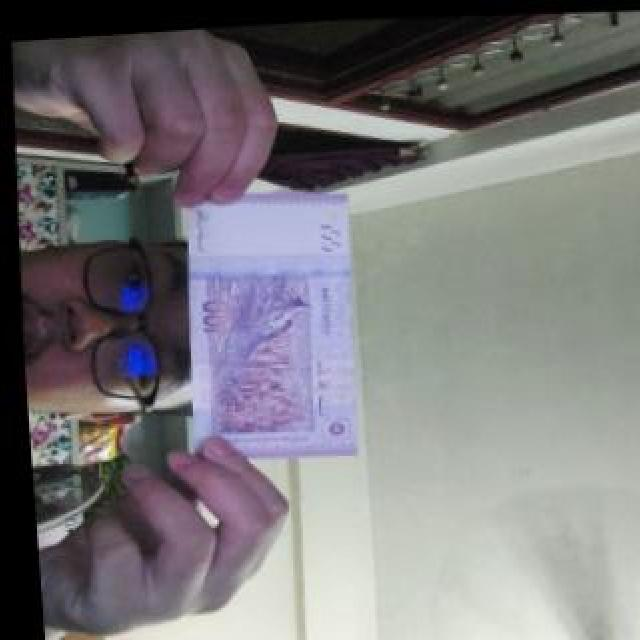100 Ringgit: (153, 172, 376, 477)
